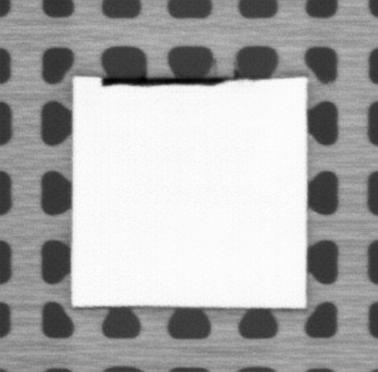DIE_BROKEN: (100, 74, 229, 87)
